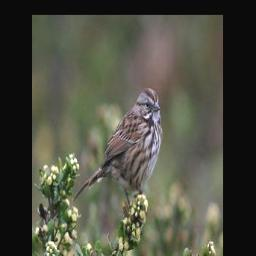Sparrow: (72, 86, 166, 219)
